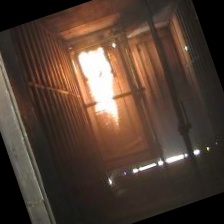fire: (70, 38, 137, 138)
